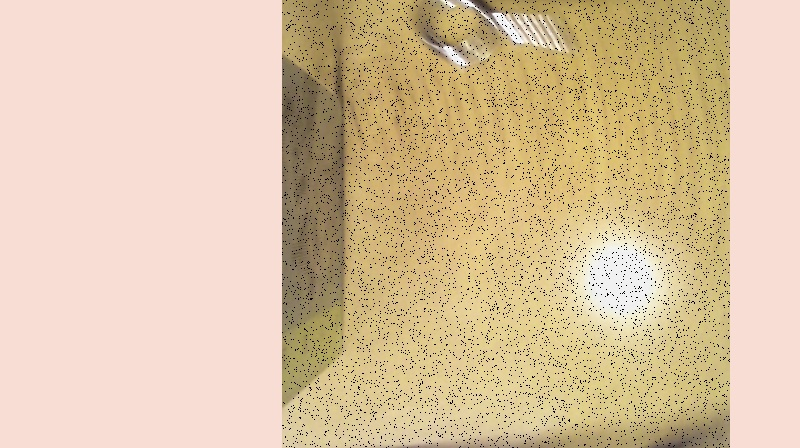O001: (404, 0, 576, 74)
